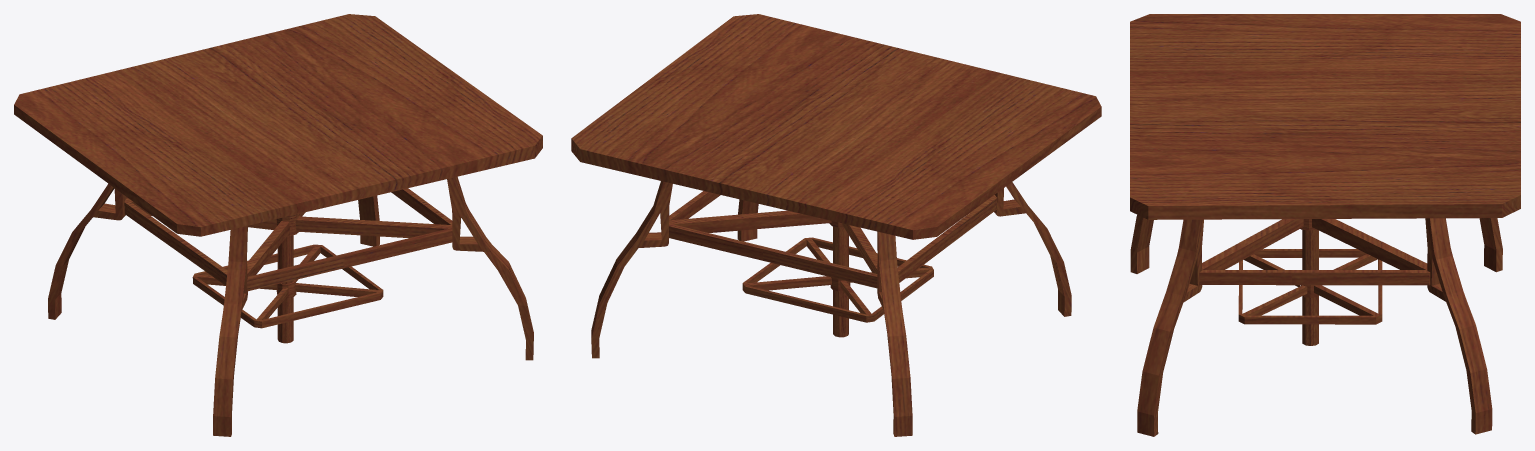
Rendered from Table.fbx.
3 views of the same model, side by side, from view 1: azimuth 30°, elevation 25°; view 2: azimuth 150°, elevation 25°; view 3: azimuth 270°, elevation 25° (orthographic). The views are drawn at different scales.
Visible parts, largest first — view 1: Table_1; view 2: Table_1; view 3: Table_1.
Boxes of the visible parts, x1=… form: Table_1: x1=14, y1=14, x2=542, y2=436; Table_1: x1=571, y1=14, x2=1101, y2=436; Table_1: x1=1130, y1=14, x2=1520, y2=436.
Size of the model in its own units: 2.82 by 1.6 by 2.42.
Materials: 1 (1 with a texture image).
